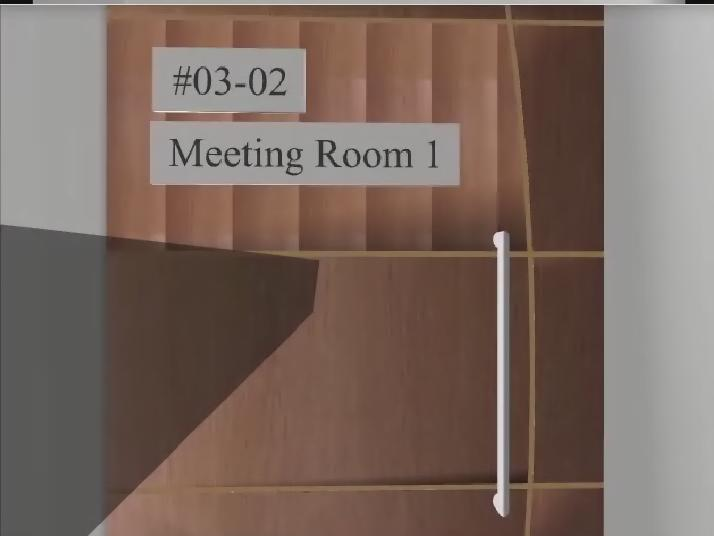door: (107, 5, 603, 536)
